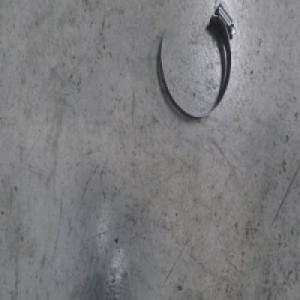AdjustableClamp: (159, 2, 238, 120)
